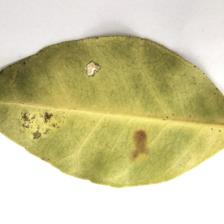canker: (19, 60, 166, 157)
